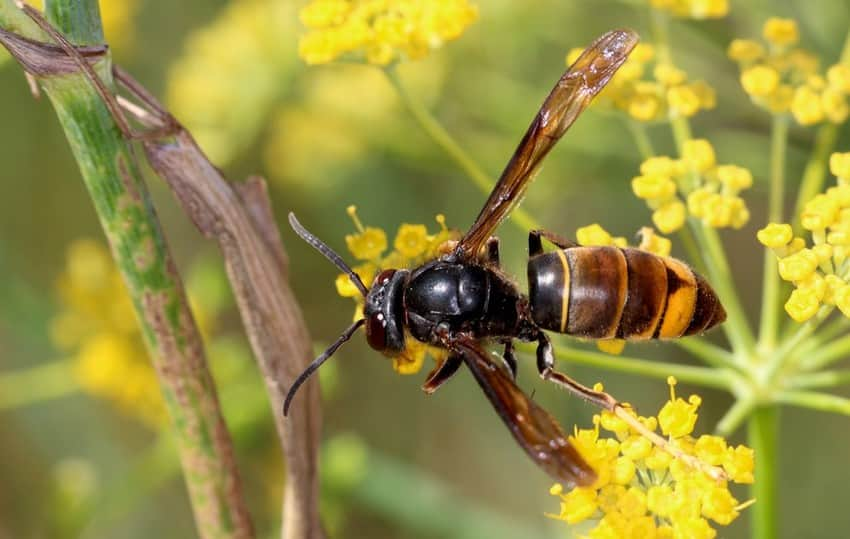hornet: (334, 122, 748, 466)
